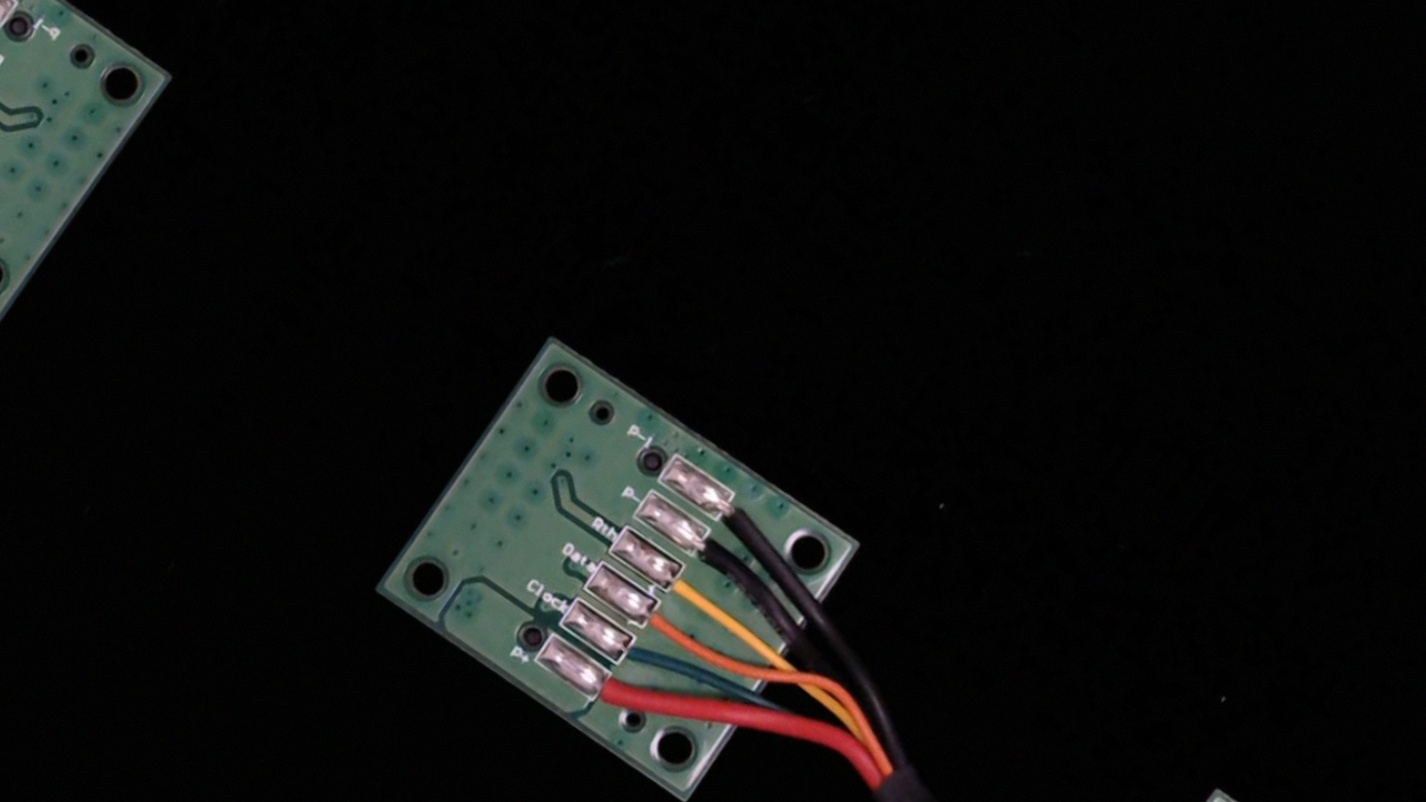Black: (669, 514, 761, 593)
Black1: (696, 480, 780, 554)
Green: (591, 617, 679, 694)
Orange: (618, 584, 707, 660)
Red: (570, 656, 658, 733)
Yellow: (646, 546, 738, 626)
